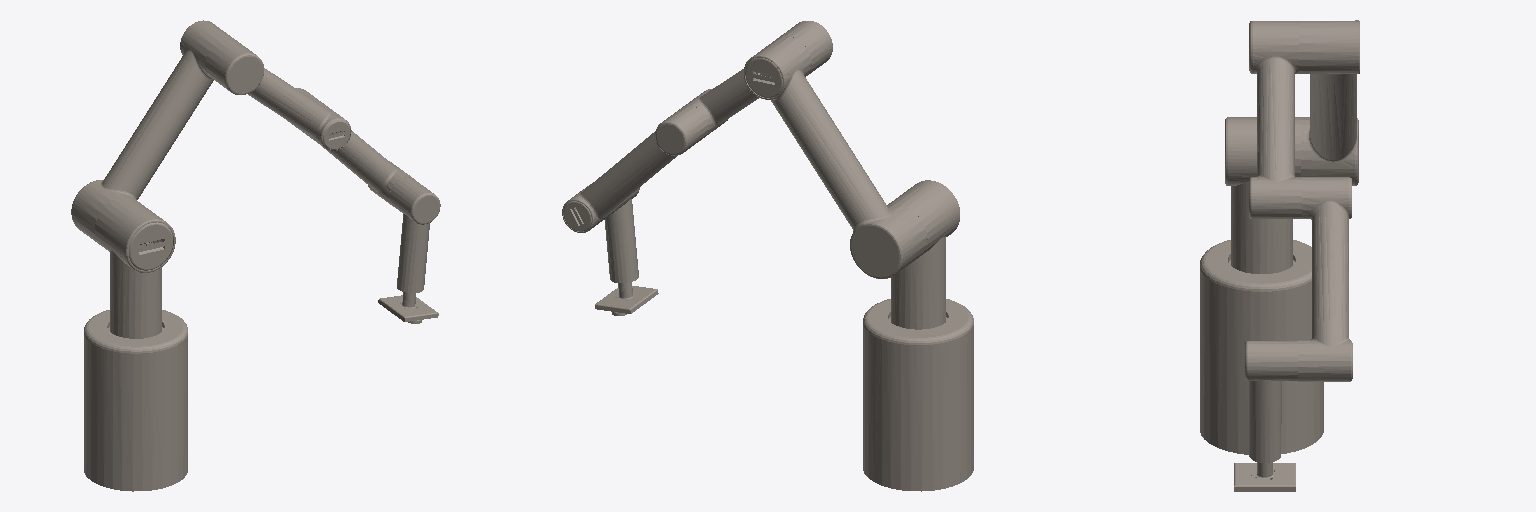
robot.urdf — focus_one:
<?xml version="1.0"?>
<!-- This URDF was automatically created by SolidWorks to URDF Exporter! Originally created by [author] ([email redacted]) 
     Commit Version: 1.6.0-4-g7f85cfe  Build Version: 1.6.7995.38578
     For more information, please see http://wiki.ros.org/sw_urdf_exporter -->
<robot
  name="focus_one">
  <link
    name="base_link">
    <inertial>
      <origin
        xyz="0 -2.22044604925031E-16 0.379681653155367"
        rpy="0 0 0" />
      <mass
        value="121.16606658481" />
      <inertia
        ixx="6.35112594534292"
        ixy="6.70075736704187E-32"
        ixz="-1.22623842249066E-31"
        iyy="6.35112594534292"
        iyz="1.84529974635965E-15"
        izz="3.83547642649489" />
    </inertial>
    <visual>
      <origin
        xyz="0 0 0"
        rpy="0 0 0" />
      <geometry>
        <mesh
          filename="package://focus_one_robot/meshes/visual/base_link.STL" />
      </geometry>
      <material
        name="">
        <color
          rgba="0.650980392156863 0.619607843137255 0.588235294117647 1" />
      </material>
    </visual>
    <collision>
      <origin
        xyz="0 0 0"
        rpy="0 0 0" />
      <geometry>
        <mesh
          filename="package://focus_one_robot/meshes/visual/base_link.STL" />
      </geometry>
    </collision>
  </link>
  <link
    name="link_1">
    <inertial>
      <origin
        xyz="-0.0022075897637579 0.00556267745318662 0.296165616698225"
        rpy="0 0 0" />
      <mass
        value="38.3316831770885" />
      <inertia
        ixx="0.836297568774467"
        ixy="0.00104494646122039"
        ixz="0.000754815025778347"
        iyy="0.848008822237879"
        iyz="-0.00470293267461019"
        izz="0.318916323042344" />
    </inertial>
    <visual>
      <origin
        xyz="0 0 0"
        rpy="0 0 0" />
      <geometry>
        <mesh
          filename="package://focus_one_robot/meshes/visual/link_1.STL" />
      </geometry>
      <material
        name="">
        <color
          rgba="0.650980392156863 0.619607843137255 0.588235294117647 1" />
      </material>
    </visual>
    <collision>
      <origin
        xyz="0 0 0"
        rpy="0 0 0" />
      <geometry>
        <mesh
          filename="package://focus_one_robot/meshes/visual/link_1.STL" />
      </geometry>
    </collision>
  </link>
  <joint
    name="joint_1"
    type="revolute">
    <origin
      xyz="0.000453776177905318 -0.00163190970462757 0.583430114209497"
      rpy="0 0 0" />
    <parent
      link="base_link" />
    <child
      link="link_1" />
    <axis
      xyz="0 0 1" />
    <limit
      lower="0"
      upper="6.28"
      effort="500"
      velocity="0.05" />
  </joint>
  <link
    name="link_2">
    <inertial>
      <origin
        xyz="-0.160397334808256 -0.077262002092607 0.317810292386523"
        rpy="0 0 0" />
      <mass
        value="107.698631058371" />
      <inertia
        ixx="4.45300838036733"
        ixy="-0.0713932386426958"
        ixz="2.0400755292518"
        iyy="5.49920915759251"
        iyz="0.141458616536782"
        izz="1.44050224387635" />
    </inertial>
    <visual>
      <origin
        xyz="0 0 0"
        rpy="0 0 0" />
      <geometry>
        <mesh
          filename="package://focus_one_robot/meshes/visual/link_2.STL" />
      </geometry>
      <material
        name="">
        <color
          rgba="0.650980392156863 0.619607843137255 0.588235294117647 1" />
      </material>
    </visual>
    <collision>
      <origin
        xyz="0 0 0"
        rpy="0 0 0" />
      <geometry>
        <mesh
          filename="package://focus_one_robot/meshes/visual/link_2.STL" />
      </geometry>
    </collision>
  </link>
  <joint
    name="joint_2"
    type="revolute">
    <origin
      xyz="-0.000453776177895993 0.311631909704627 0.399999999999993"
      rpy="0 0 0" />
    <parent
      link="link_1" />
    <child
      link="link_2" />
    <axis
      xyz="0 1 0" />
    <limit
      lower="0.2"
      upper="2.07"
      effort="250"
      velocity="0.05" />
  </joint>
  <link
    name="link_3">
    <inertial>
      <origin
        xyz="-0.201760481073866 0.06729067878538 0.066413147056462"
        rpy="0 0 0" />
      <mass
        value="25.5042959553062" />
      <inertia
        ixx="0.217119241484828"
        ixy="0.0825446602605661"
        ixz="0.3493447373883"
        iyy="1.27276186274013"
        iyz="-0.0271716476433567"
        izz="1.16339002819408" />
    </inertial>
    <visual>
      <origin
        xyz="0 0 0"
        rpy="0 0 0" />
      <geometry>
        <mesh
          filename="package://focus_one_robot/meshes/visual/link_3.STL" />
      </geometry>
      <material
        name="">
        <color
          rgba="0.650980392156863 0.619607843137255 0.588235294117647 1" />
      </material>
    </visual>
    <collision>
      <origin
        xyz="0 0 0"
        rpy="0 0 0" />
      <geometry>
        <mesh
          filename="package://focus_one_robot/meshes/visual/link_3.STL" />
      </geometry>
    </collision>
  </link>
  <joint
    name="joint_3"
    type="revolute">
    <origin
      xyz="-0.334623938031127 -0.35 0.663022427025265"
      rpy="0 0 0" />
    <parent
      link="link_2" />
    <child
      link="link_3" />
    <axis
      xyz="0 1 0" />
    <limit
      lower="1.0"
      upper="3.8"
      effort="250"
      velocity="0.05" />
  </joint>
  <link
    name="link_4">
    <inertial>
      <origin
        xyz="-0.234406677904848 -0.0666631367354474 0.100562338319374"
        rpy="0 0 0" />
      <mass
        value="20.0585468526741" />
      <inertia
        ixx="0.225734288644349"
        ixy="-0.0396503479785347"
        ixz="0.348000732340316"
        iyy="1.0280996724297"
        iyz="0.0170117888402346"
        izz="0.887609904522989" />
    </inertial>
    <visual>
      <origin
        xyz="0 0 0"
        rpy="0 0 0" />
      <geometry>
        <mesh
          filename="package://focus_one_robot/meshes/visual/link_4.STL" />
      </geometry>
      <material
        name="">
        <color
          rgba="0.650980392156863 0.619607843137255 0.588235294117647 1" />
      </material>
    </visual>
    <collision>
      <origin
        xyz="0 0 0"
        rpy="0 0 0" />
      <geometry>
        <mesh
          filename="package://focus_one_robot/meshes/visual/link_4.STL" />
      </geometry>
    </collision>
  </link>
  <joint
    name="joint_4"
    type="revolute">
    <origin
      xyz="-0.504289699985156 0.329999999999999 0.165998675774342"
      rpy="0 0 0" />
    <parent
      link="link_3" />
    <child
      link="link_4" />
    <axis
      xyz="0 1 0" />
    <limit
      lower="0"
      upper="2.65"
      effort="250"
      velocity="0.025" />
  </joint>
  <link
    name="link_5">
    <inertial>
      <origin
        xyz="0.058145110098764 3.16835891744915E-07 -0.0695390026922316"
        rpy="0 0 0" />
      <mass
        value="10.6190708335877" />
      <inertia
        ixx="0.148877903089667"
        ixy="5.02819686467743E-07"
        ixz="0.00553325658501009"
        iyy="0.15569131388024"
        iyz="5.95667253196322E-07"
        izz="0.035741273802861" />
    </inertial>
    <visual>
      <origin
        xyz="0 0 0"
        rpy="0 0 0" />
      <geometry>
        <mesh
          filename="package://focus_one_robot/meshes/visual/link_5.STL" />
      </geometry>
      <material
        name="">
        <color
          rgba="0.650980392156863 0.619607843137255 0.588235294117647 1" />
      </material>
    </visual>
    <collision>
      <origin
        xyz="0 0 0"
        rpy="0 0 0" />
      <geometry>
        <mesh
          filename="package://focus_one_robot/meshes/visual/link_5.STL" />
      </geometry>
    </collision>
  </link>
  <joint
    name="joint_5"
    type="revolute">
    <origin
      xyz="-0.508231786141092 -0.345 0.218040147081425"
      rpy="0.662785749448086 0 1.5707963267949" />
    <parent
      link="link_4" />
    <child
      link="link_5" />
    <axis
      xyz="-1 0 0" />
    <limit
      lower="3.6"
      upper="4.6"
      effort="250"
      velocity="0.025" />
  </joint>
  <link
    name="link_6">
    <inertial>
      <origin
        xyz="2.41125251987384E-08 -9.92570636793033E-08 0.107105903452022"
        rpy="0 0 0" />
      <mass
        value="10.2000942320303" />
      <inertia
        ixx="0.066046768442933"
        ixy="1.96445194588987E-07"
        ixz="1.84486840532216E-07"
        iyy="0.0728428998544438"
        iyz="-2.18561229082051E-07"
        izz="0.0269284972398884" />
    </inertial>
    <visual>
      <origin
        xyz="0 0 0"
        rpy="0 0 0" />
      <geometry>
        <mesh
          filename="package://focus_one_robot/meshes/visual/link_6.STL" />
      </geometry>
      <material
        name="">
        <color
          rgba="0.650980392156863 0.619607843137255 0.588235294117647 1" />
      </material>
    </visual>
    <collision>
      <origin
        xyz="0 0 0"
        rpy="0 0 0" />
      <geometry>
        <mesh
          filename="package://focus_one_robot/meshes/visual/link_6.STL" />
      </geometry>
    </collision>
  </link>
  <joint
    name="joint_6"
    type="prismatic">
    <origin
      xyz="0.065638523916589 0 -0.442075946792479"
      rpy="0 0 0" />
    <parent
      link="link_5" />
    <child
      link="link_6" />
    <axis
      xyz="0 0 -1" />
    <limit
      lower="0"
      upper="0.18"
      effort="15000"
      velocity="0.1" />
  </joint>
  <gazebo>
  	<plugin name="gazebo_ros_factory" filename="libgazebo_ros_factory.so"/>
  </gazebo>
</robot>

--- What the picture shows (computed from the rendered views, not written in the file) ---
The picture shows the robot from 3 angles, left to right: view 1: azimuth 30°, elevation 25°; view 2: azimuth 150°, elevation 25°; view 3: azimuth 270°, elevation 25°; orthographic projection.
Model focus_one with 7 links and 6 joints (5 revolute, 1 prismatic), rooted at base_link, posed joints at zero except 3 at the middle of their limits (joint_2 = 1.14, joint_3 = 2.4, joint_5 = 4.1).
Visible links, largest first — view 1: base_link, link_2, link_1, link_3, link_5, link_4, link_6; view 2: base_link, link_2, link_1, link_4, link_3, link_5, link_6; view 3: base_link, link_4, link_2, link_3, link_1, link_5, link_6.
Boxes of the visible links, x1,y1,x2,y2 form: base_link: (84,310,187,491); link_2: (71,20,236,244); link_1: (95,197,175,338); link_3: (205,39,351,150); link_5: (390,177,440,292); link_4: (288,88,413,206); link_6: (378,292,438,323); base_link: (863,299,973,491); link_2: (744,36,926,278); link_1: (887,180,959,329); link_4: (562,106,708,232); link_3: (682,21,832,136); link_5: (605,188,639,282); link_6: (595,282,658,315); base_link: (1200,240,1323,454); link_4: (1298,177,1352,381); link_2: (1299,20,1359,185); link_3: (1249,21,1301,218); link_1: (1225,117,1300,273); link_5: (1245,341,1297,462); link_6: (1234,462,1295,491).
Bounding box of the posed robot: 1.51 × 0.516 × 1.65 m (x, y, z).
7 mesh visuals loaded from 7 distinct referenced files (7 binary STL).